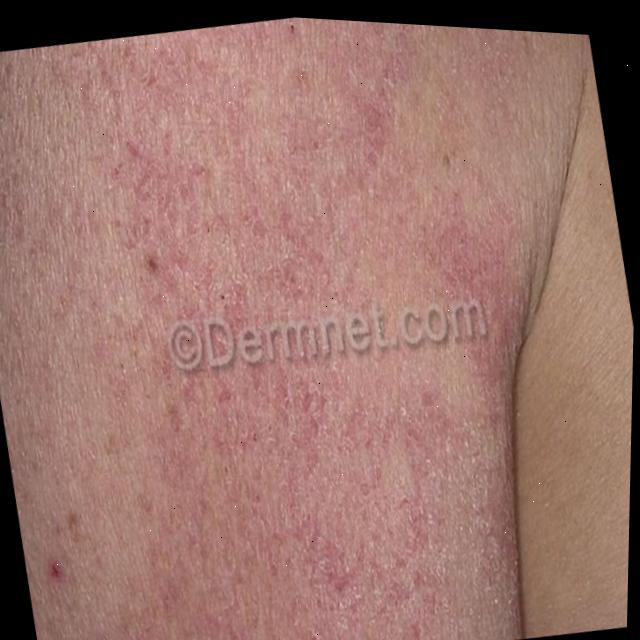Eczema: (86, 6, 554, 640)
